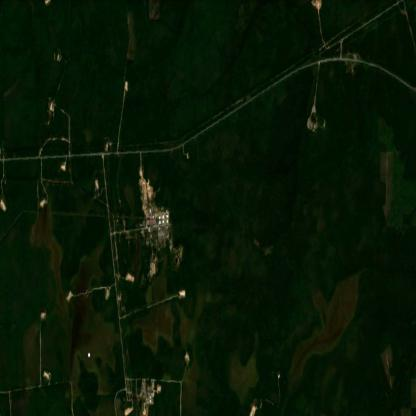oil: (82, 286, 90, 306)
